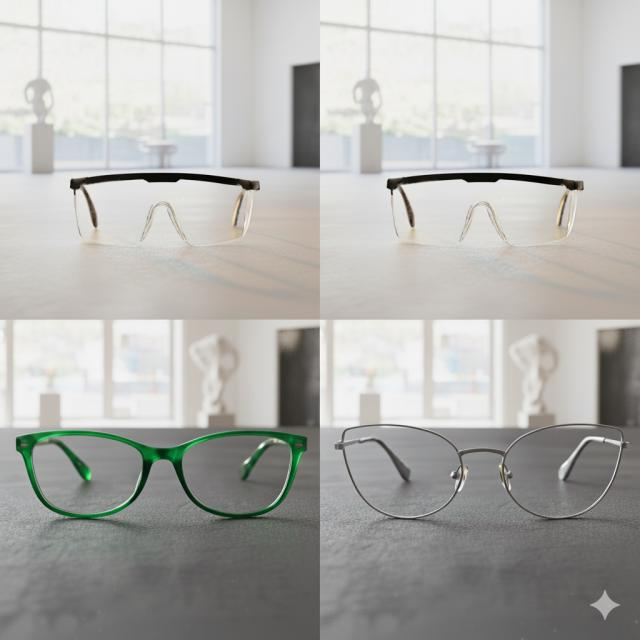oculos-epi: (387, 172, 582, 246), (69, 172, 259, 246)
sem_oculos: (335, 425, 628, 519), (17, 430, 306, 518)
